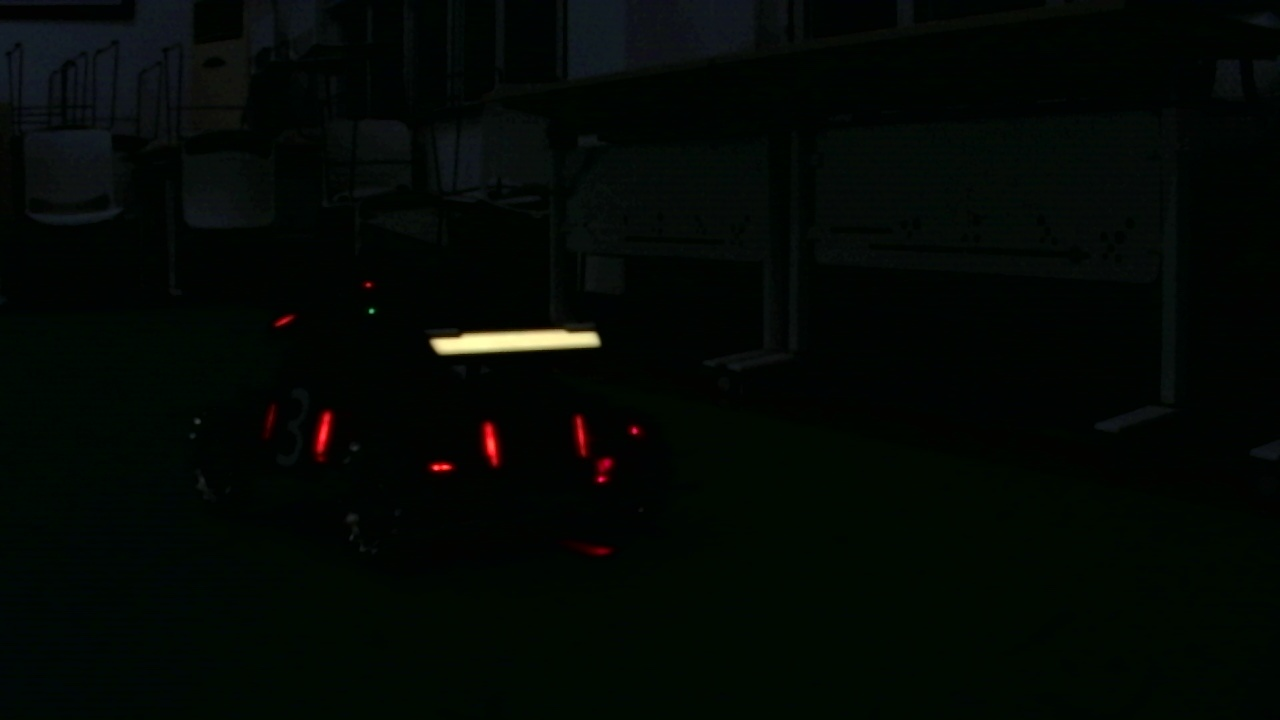lamp: (476, 406, 505, 470), (310, 406, 329, 467), (572, 403, 592, 459)
notpair1: (312, 407, 504, 471)
pair1: (482, 414, 592, 472)
